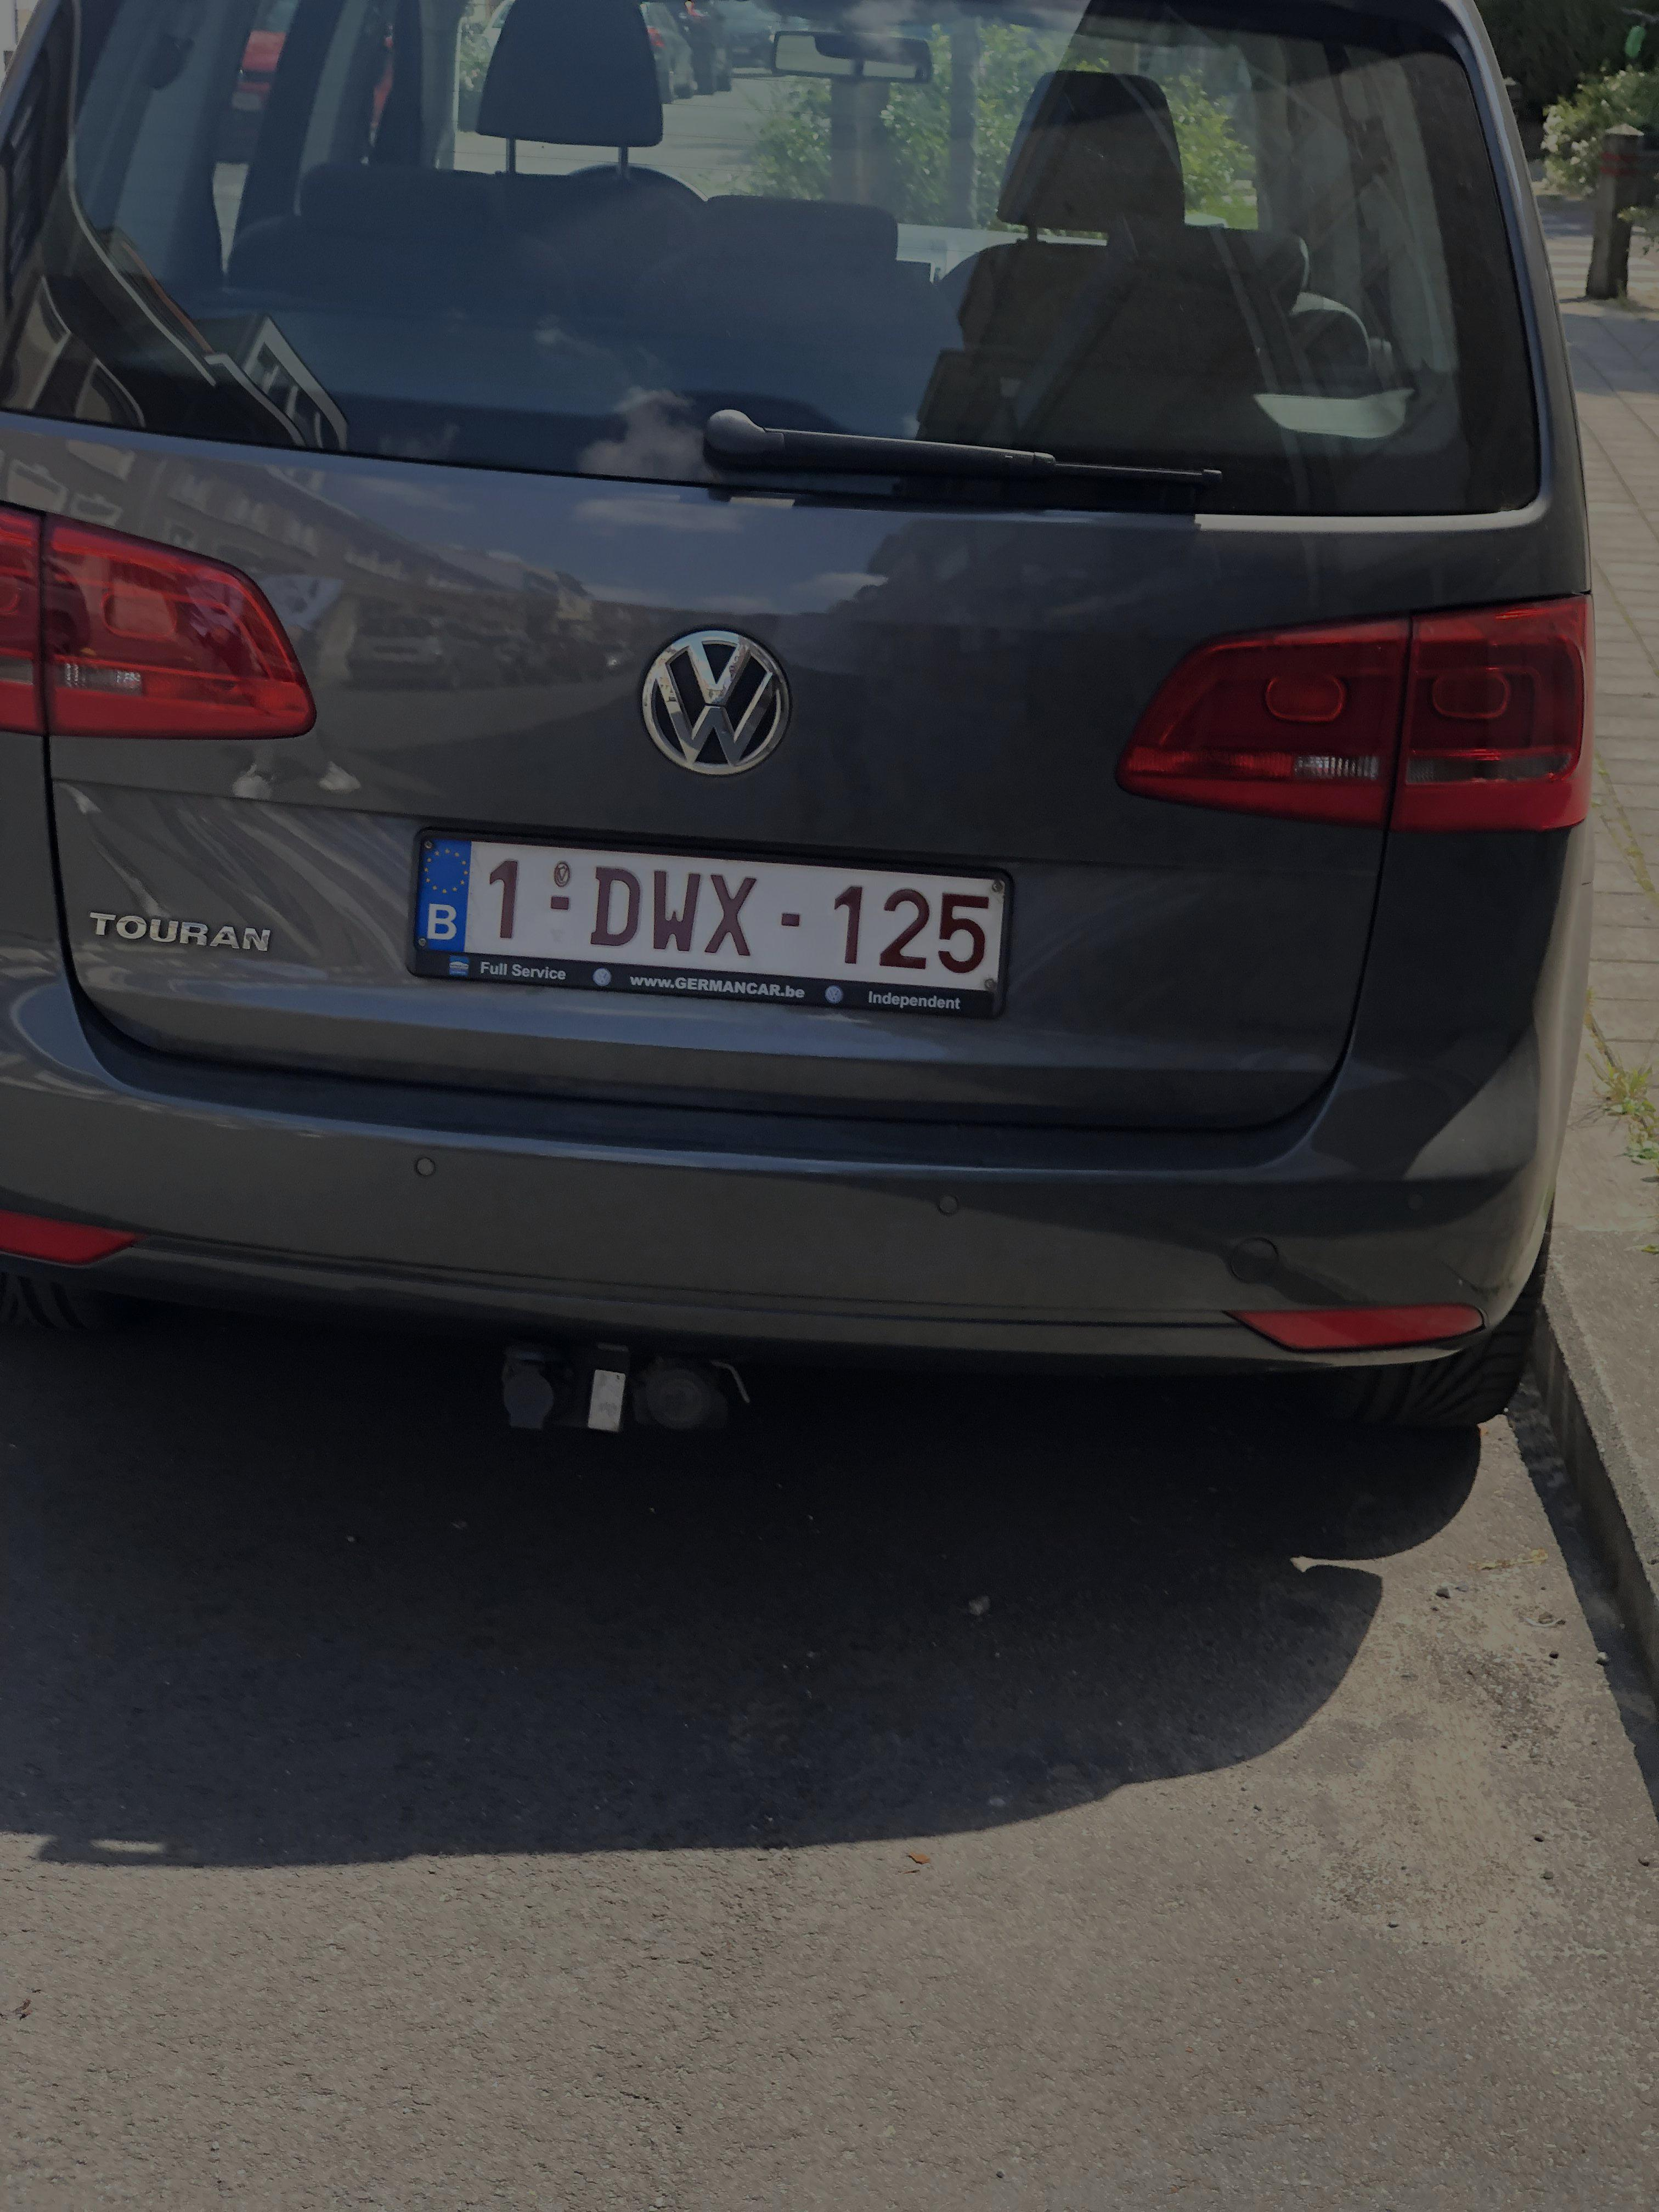plate: (377, 812, 1027, 1009)
